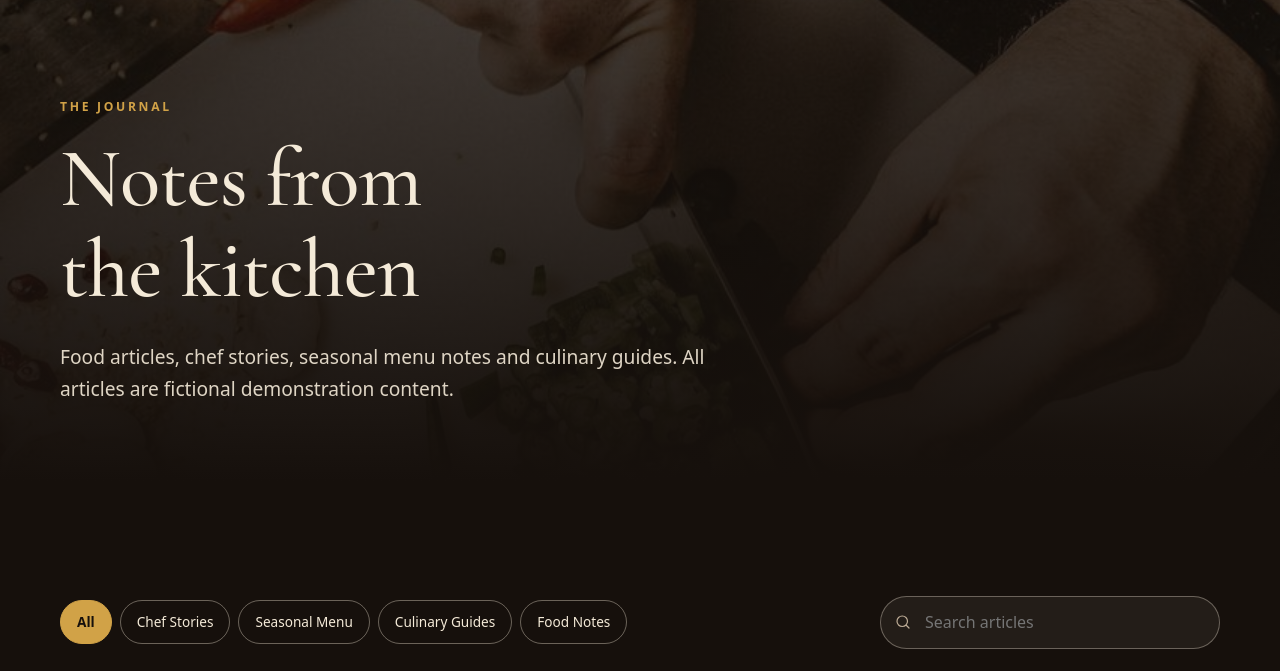
Test case: Gallery & Journal › filters journal by search and category
Type "saffron" into the search field at (1050, 622), box [880, 596, 1220, 649]
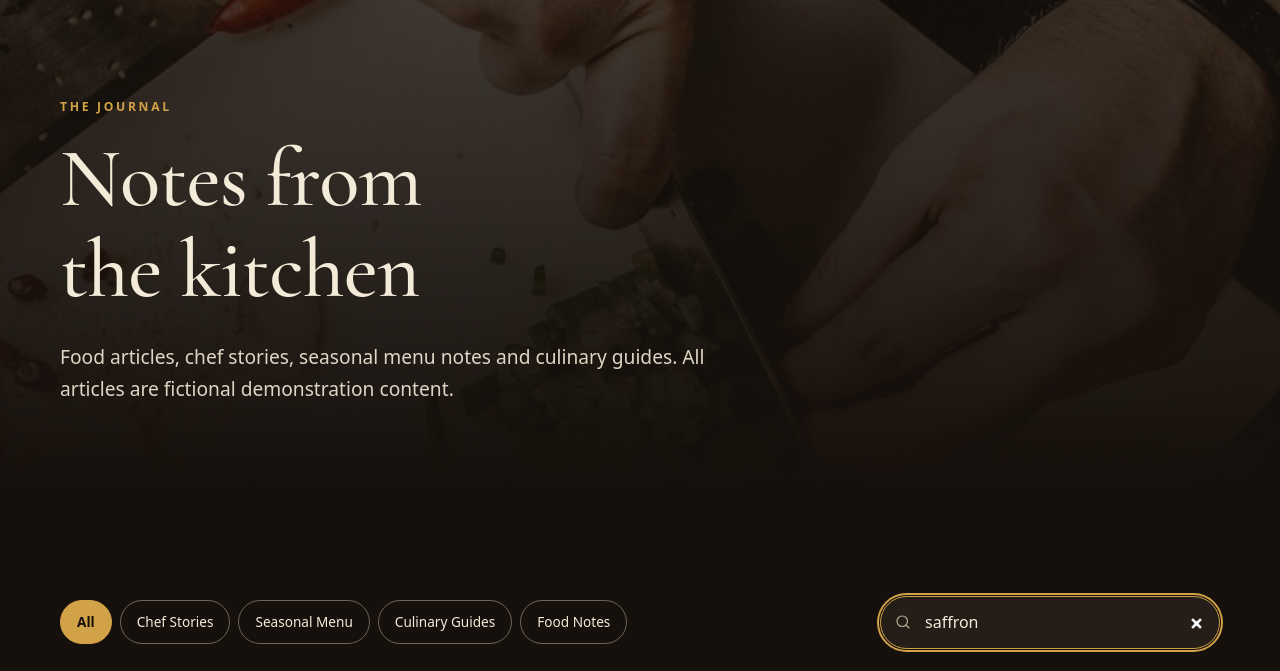
Clear the search field at (1050, 622), box [880, 596, 1220, 649]
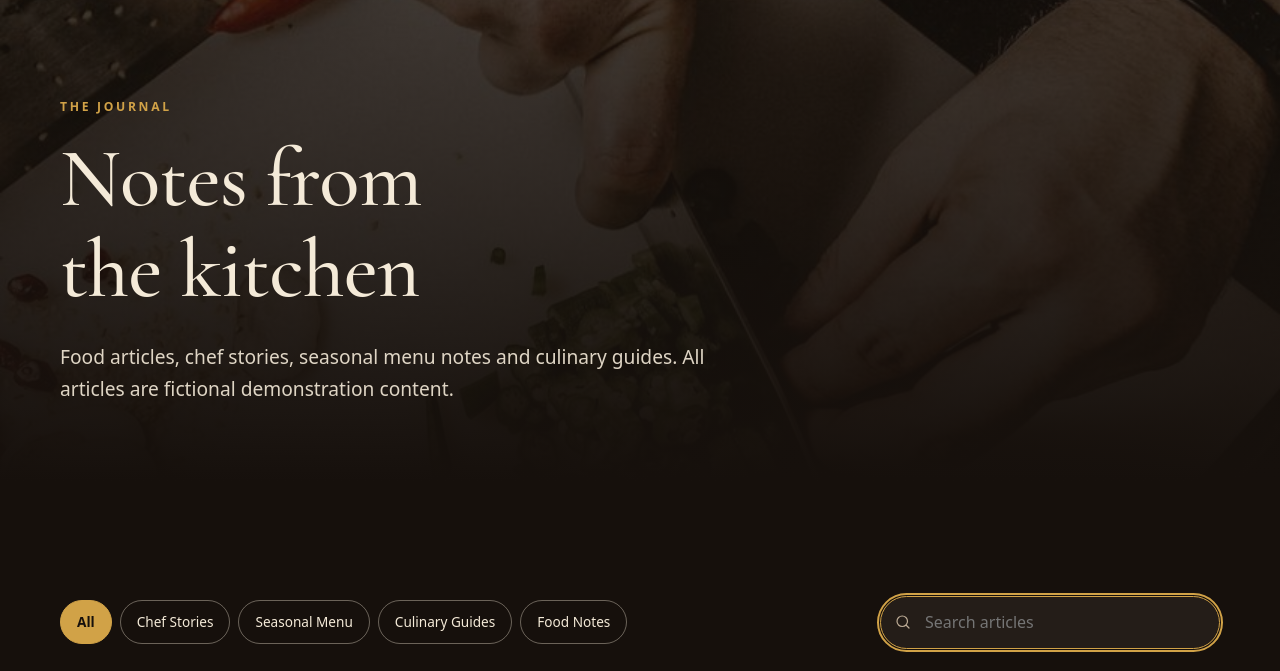
Click the button "Chef Stories" at (175, 622), box [120, 600, 230, 644]
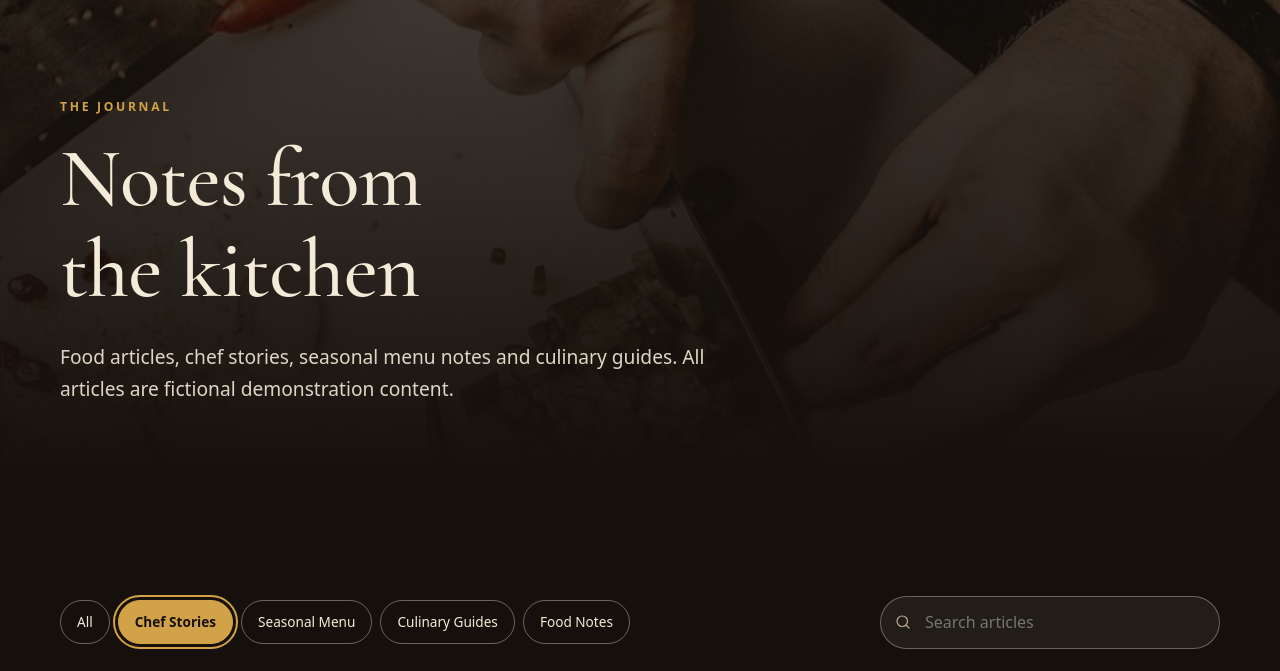
Type "qqqq" into the search field at (1050, 622), box [880, 596, 1220, 649]
(page scrolled)
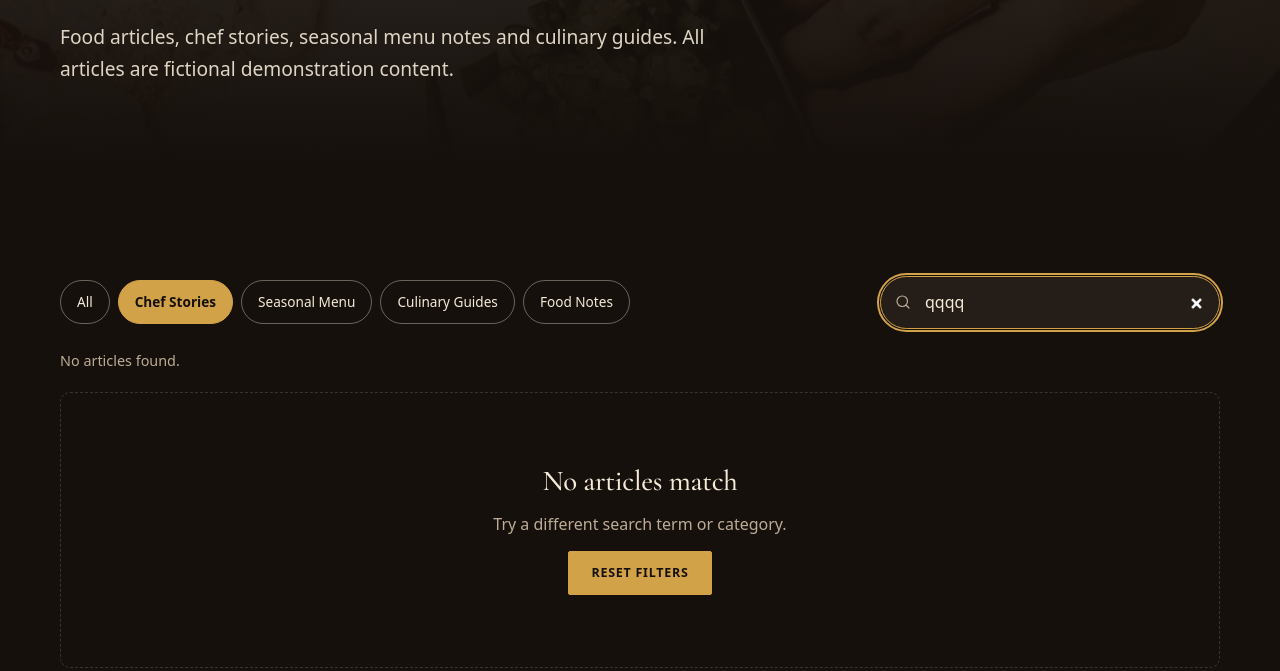
Now the text "No articles found." is shown, box [60, 350, 180, 370]
